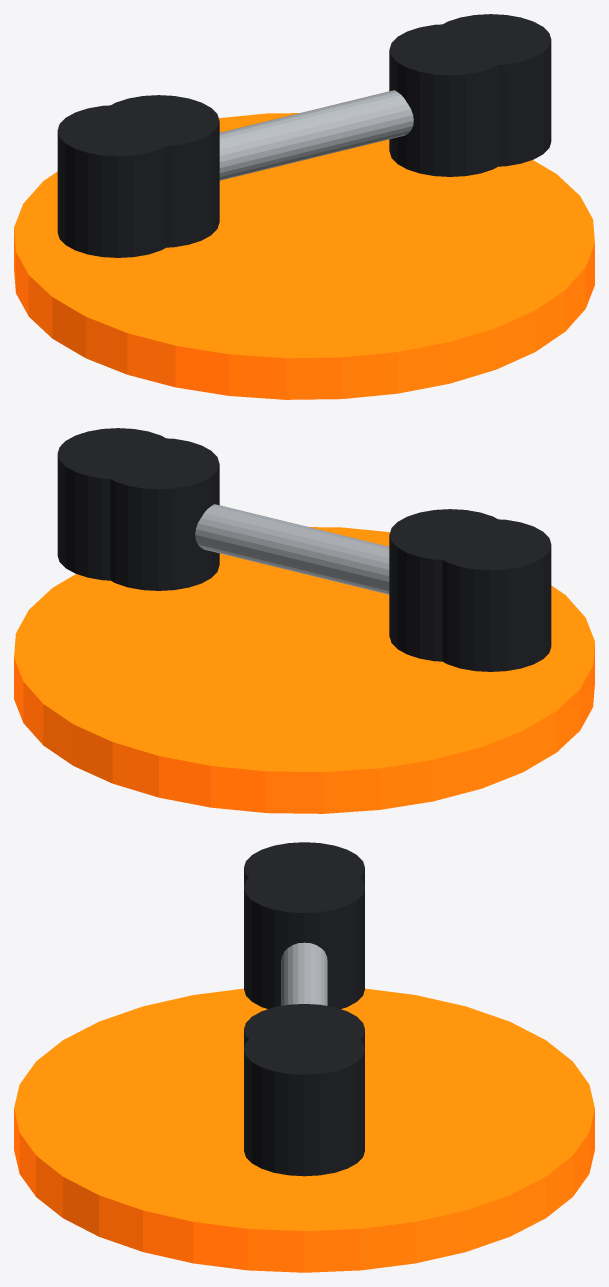
Rendered from fitness_dumbbell.dae.
The picture shows the model from 3 angles, top to bottom: view 1: azimuth 30°, elevation 25°; view 2: azimuth 150°, elevation 25°; view 3: azimuth 270°, elevation 25°; orthographic projection.
Parts seen in each view (by area): view 1: 02_01_Popular_Fitness_Dumbbell_ROOT_base, 02_01_Popular_Fitness_Dumbbell_part_02, 02_01_Popular_Fitness_Dumbbell_part_04, 02_01_Popular_Fitness_Dumbbell_part_03, 02_01_Popular_Fitness_Dumbbell_part_01, 02_01_Popular_Fitness_Dumbbell_part_05; view 2: 02_01_Popular_Fitness_Dumbbell_ROOT_base, 02_01_Popular_Fitness_Dumbbell_part_02, 02_01_Popular_Fitness_Dumbbell_part_04, 02_01_Popular_Fitness_Dumbbell_part_03, 02_01_Popular_Fitness_Dumbbell_part_01, 02_01_Popular_Fitness_Dumbbell_part_05; view 3: 02_01_Popular_Fitness_Dumbbell_ROOT_base, 02_01_Popular_Fitness_Dumbbell_part_05, 02_01_Popular_Fitness_Dumbbell_part_03, 02_01_Popular_Fitness_Dumbbell_part_04, 02_01_Popular_Fitness_Dumbbell_part_02, 02_01_Popular_Fitness_Dumbbell_part_01.
Part boxes in pixels (x1,y1,x2,y2): 02_01_Popular_Fitness_Dumbbell_ROOT_base: (14,113,594,399); 02_01_Popular_Fitness_Dumbbell_part_02: (57,105,178,257); 02_01_Popular_Fitness_Dumbbell_part_04: (389,24,510,176); 02_01_Popular_Fitness_Dumbbell_part_03: (98,95,219,247); 02_01_Popular_Fitness_Dumbbell_part_01: (219,90,413,180); 02_01_Popular_Fitness_Dumbbell_part_05: (432,14,551,166); 02_01_Popular_Fitness_Dumbbell_ROOT_base: (14,527,594,813); 02_01_Popular_Fitness_Dumbbell_part_02: (430,519,551,671); 02_01_Popular_Fitness_Dumbbell_part_04: (98,438,219,590); 02_01_Popular_Fitness_Dumbbell_part_03: (389,509,508,661); 02_01_Popular_Fitness_Dumbbell_part_01: (195,504,389,594); 02_01_Popular_Fitness_Dumbbell_part_05: (57,428,178,580); 02_01_Popular_Fitness_Dumbbell_ROOT_base: (14,988,594,1272); 02_01_Popular_Fitness_Dumbbell_part_05: (244,1023,364,1176); 02_01_Popular_Fitness_Dumbbell_part_03: (244,862,364,1008); 02_01_Popular_Fitness_Dumbbell_part_04: (244,1004,364,1054); 02_01_Popular_Fitness_Dumbbell_part_02: (244,842,364,893); 02_01_Popular_Fitness_Dumbbell_part_01: (281,942,327,1005).
Size of the model in its own units: 0.76 by 0.2764 by 0.76.
